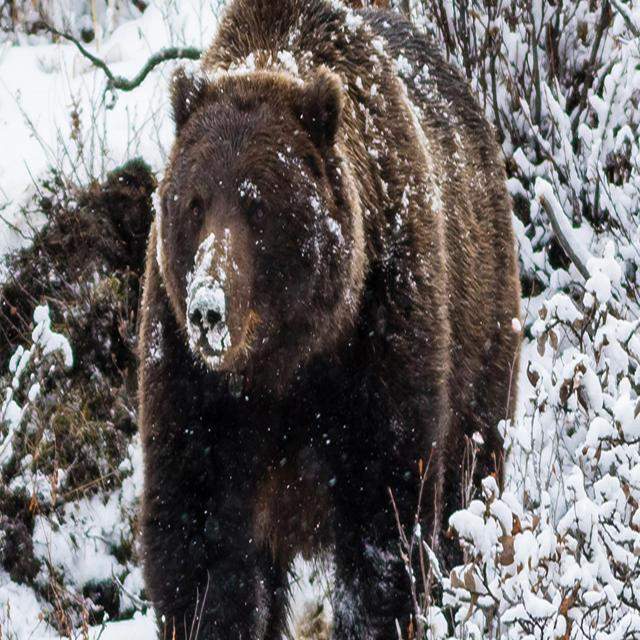Bear: (135, 0, 522, 640)
